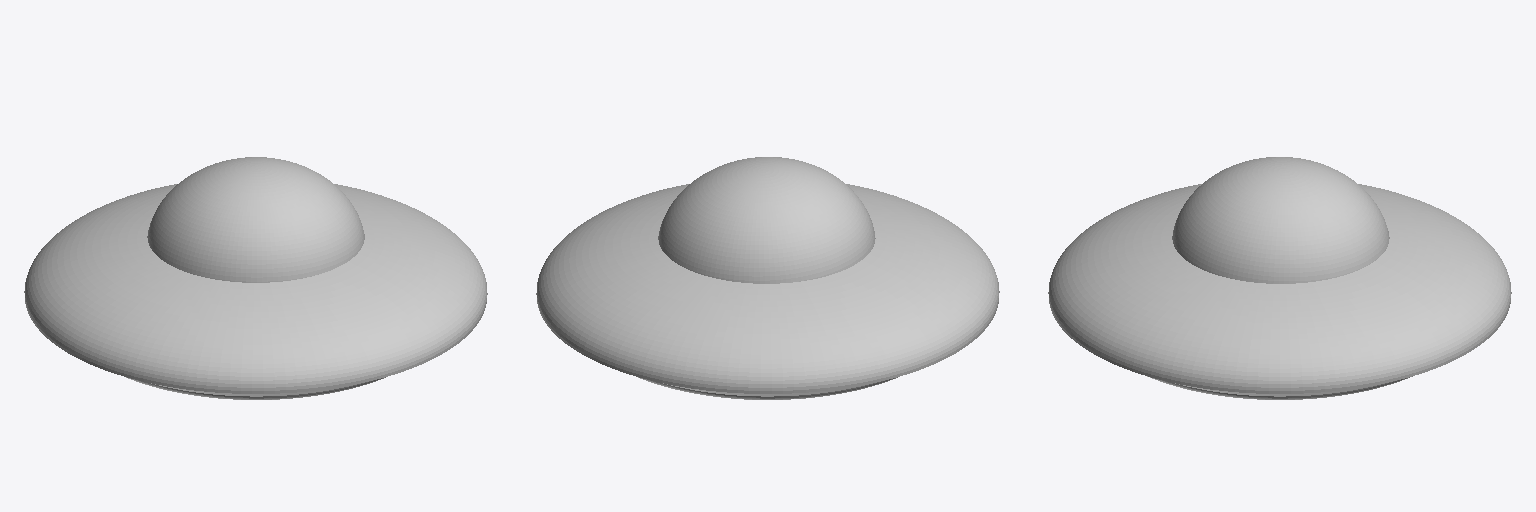
The model's file is ufo.obj.
The picture shows the model from 3 angles: view 1: azimuth 30°, elevation 25°; view 2: azimuth 150°, elevation 25°; view 3: azimuth 270°, elevation 25°; orthographic projection.
Parts seen in each view (by area): view 1: Kugel.001_Kugel.003; view 2: Kugel.001_Kugel.003; view 3: Kugel.001_Kugel.003.
Boxes of the visible parts, x1=… form: Kugel.001_Kugel.003: x1=24, y1=157, x2=487, y2=399; Kugel.001_Kugel.003: x1=536, y1=157, x2=999, y2=399; Kugel.001_Kugel.003: x1=1048, y1=157, x2=1511, y2=399.
Bounding box in the file's own units: 4.73 × 1.95 × 4.73.